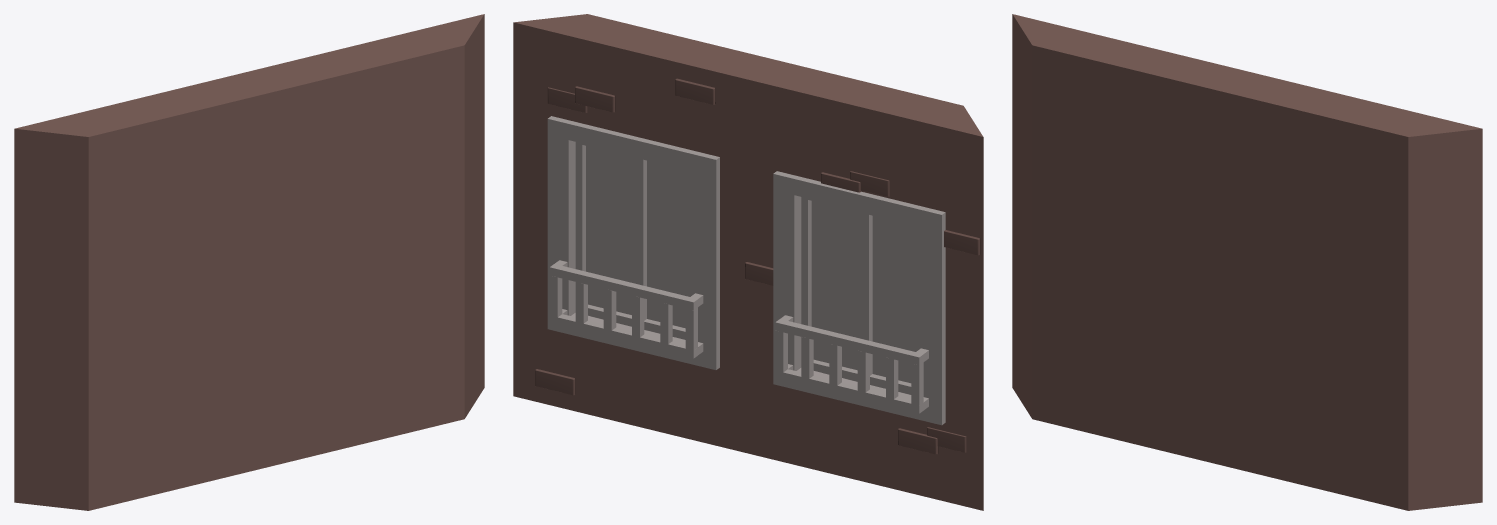
The model's file is buildingFloor_slidingDoor.fbx.
The picture shows the model from 3 angles, left to right: view 1: azimuth 30°, elevation 25°; view 2: azimuth 150°, elevation 25°; view 3: azimuth 330°, elevation 25°; orthographic projection.
Parts seen in each view (by area): view 1: buildingFloor_slidingDoor; view 2: buildingFloor_slidingDoor; view 3: buildingFloor_slidingDoor.
Boxes of the visible parts, x1=… form: buildingFloor_slidingDoor: x1=14, y1=14, x2=484, y2=510; buildingFloor_slidingDoor: x1=513, y1=14, x2=983, y2=510; buildingFloor_slidingDoor: x1=1012, y1=14, x2=1482, y2=510.
Bounding box in the file's own units: 500 × 380 × 75.12.
